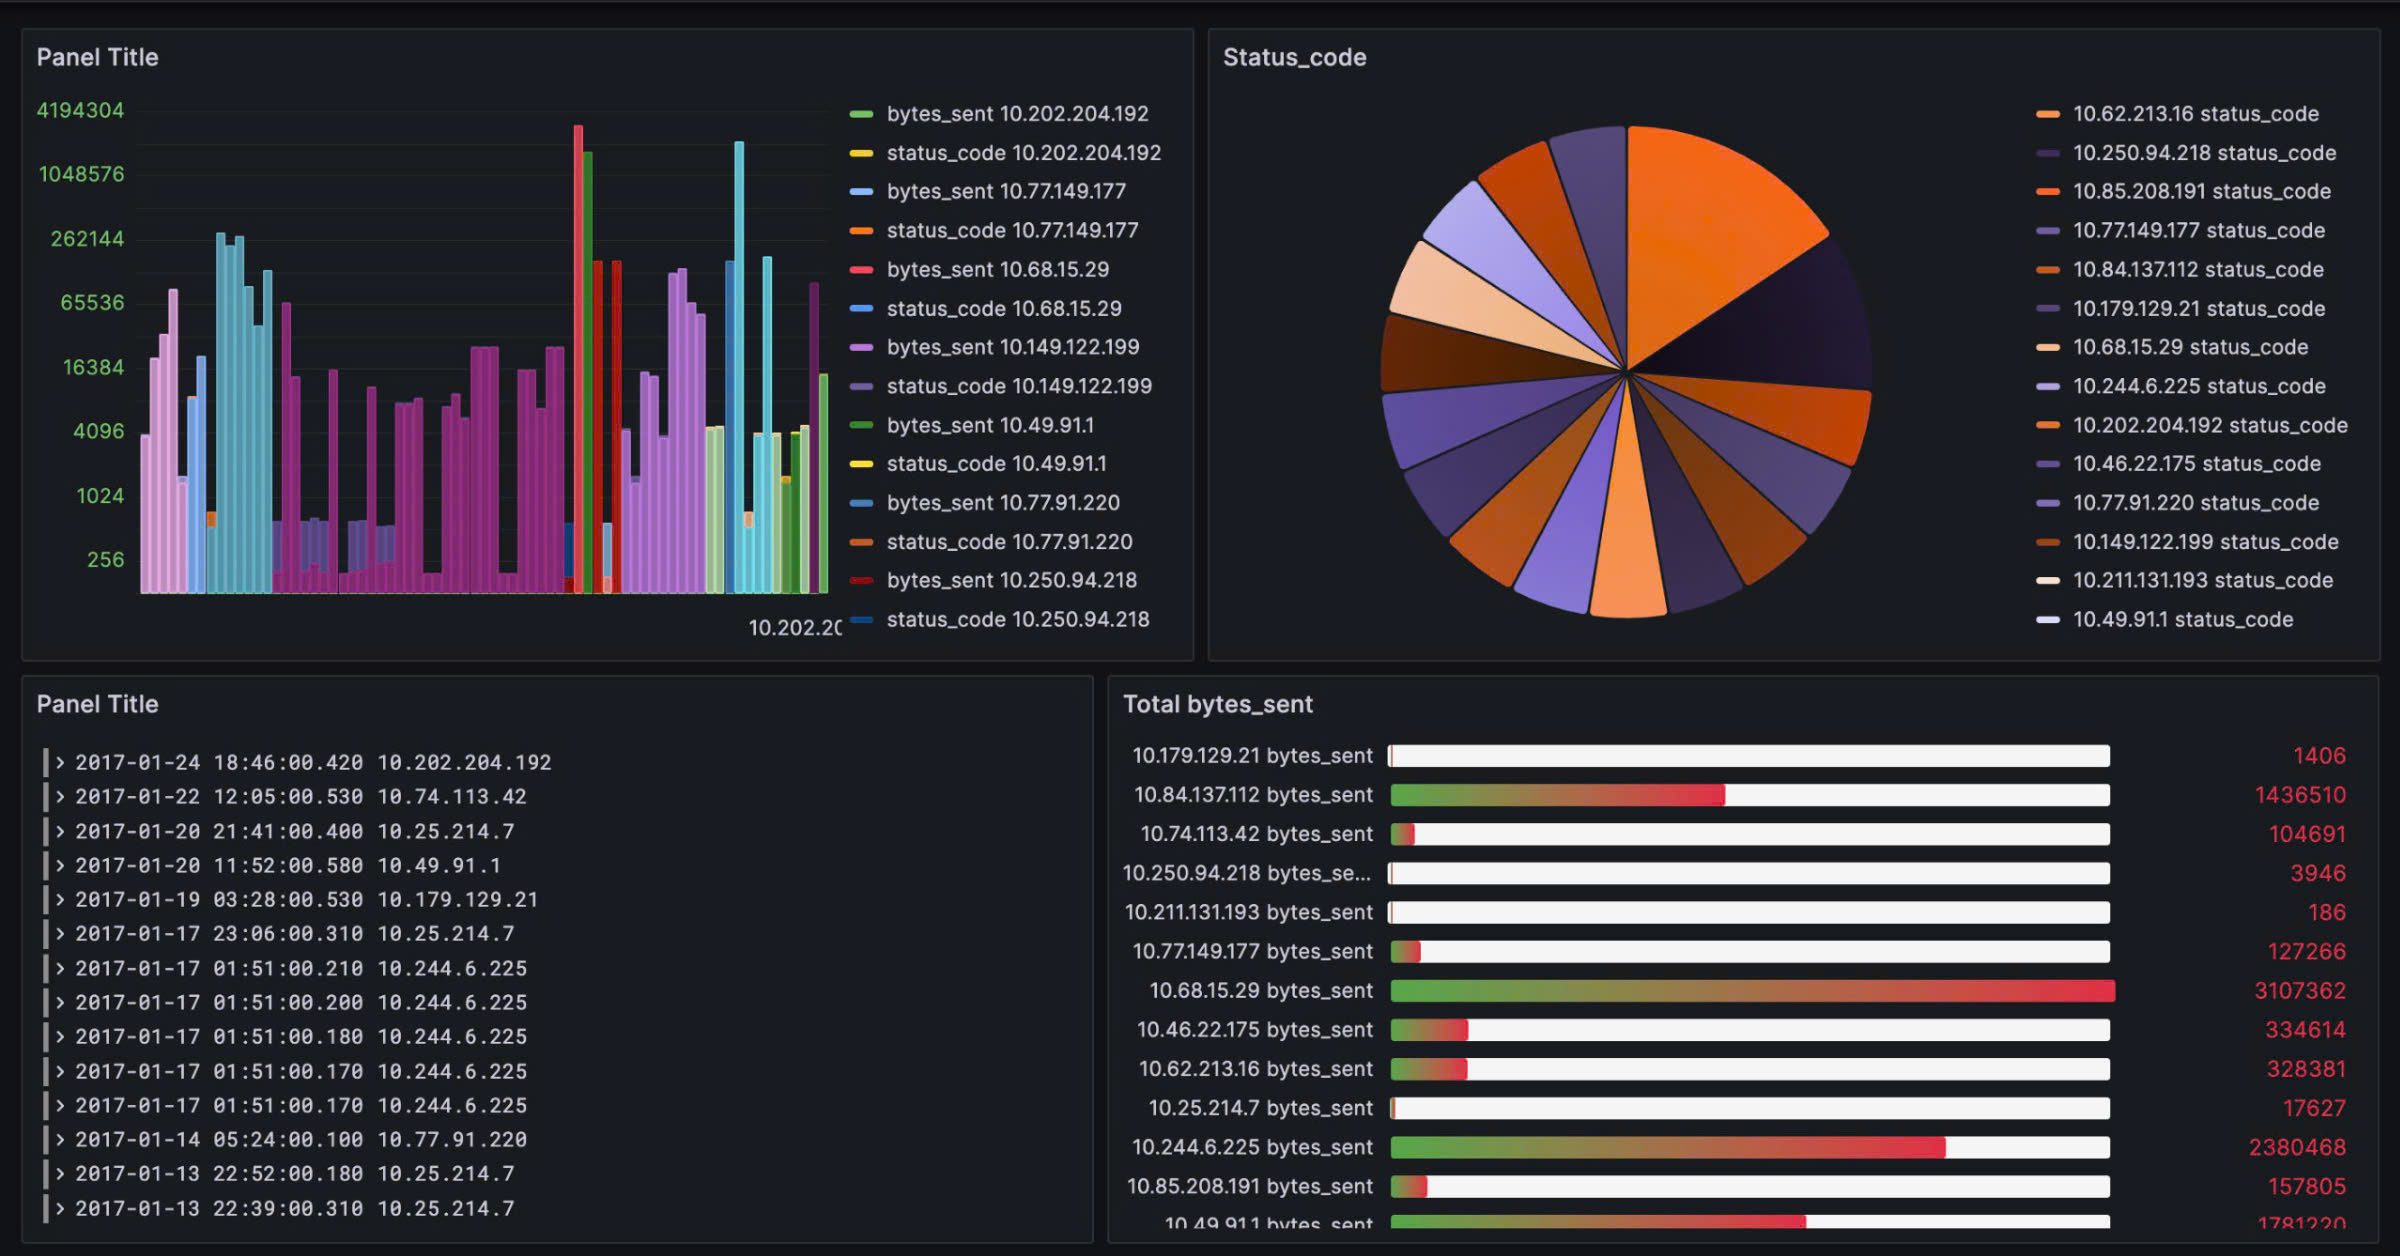

This screenshot's page, from the dashboard's own definition file:
{"tool":"powerbi","page":{"name":"Log","canvas":[1280,720],"ordinal":1},"visuals":[{"type":"columnChart","fields":{"Y":["Sum(logs.bytes_sent)"],"Category":["logs.ip_address"]},"box":[10.4,0,629.6,359.5],"z":0},{"type":"pieChart","fields":{"Category":["logs.status_code"],"Y":["Avg(logs.bytes_sent)"]},"box":[10,370,483,350],"z":1},{"type":"areaChart","fields":{"Category":["logs.status_code"],"Y":["Avg(logs.bytes_sent)"]},"box":[640,0,640,359.5],"z":2},{"type":"funnel","fields":{"Y":["Sum(logs.bytes_sent)"],"Category":["logs.status_code"]},"box":[493.8,370,786.2,350.6],"z":3}]}

Visuals, with their boxes on the page's 1280x720 design canvas (x1, y1, x2, y2). These are canvas units, not pixel positions in the 2400x1256 screenshot, which may show the page scaled, cropped or inside an application window:
columnChart - Sum(logs.bytes_sent) x logs.ip_address: detection(10, 0, 640, 360)
pieChart - logs.status_code x Avg(logs.bytes_sent): detection(10, 370, 493, 720)
areaChart - logs.status_code x Avg(logs.bytes_sent): detection(640, 0, 1280, 360)
funnel - Sum(logs.bytes_sent) x logs.status_code: detection(494, 370, 1280, 721)
